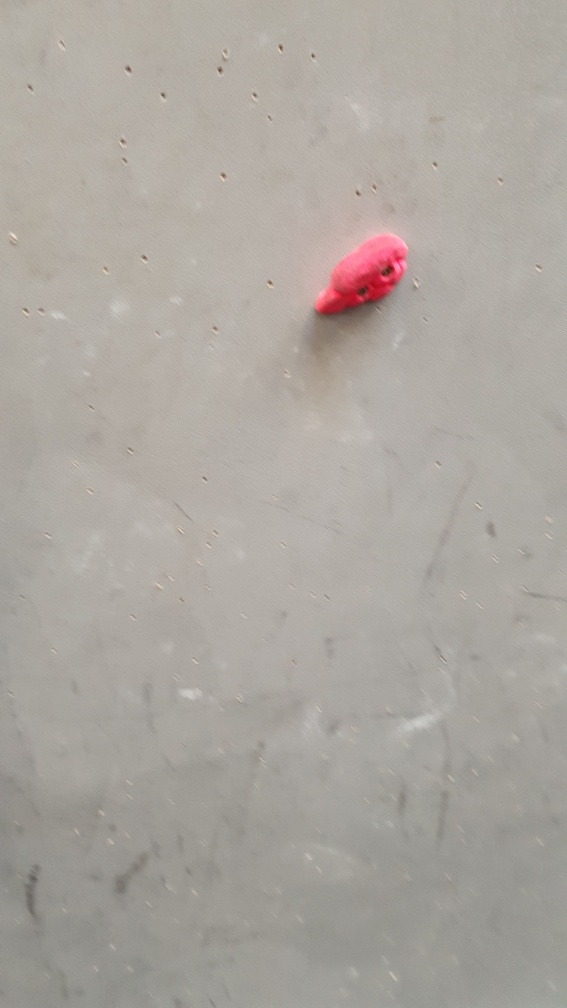Jug: (315, 232, 413, 326)
